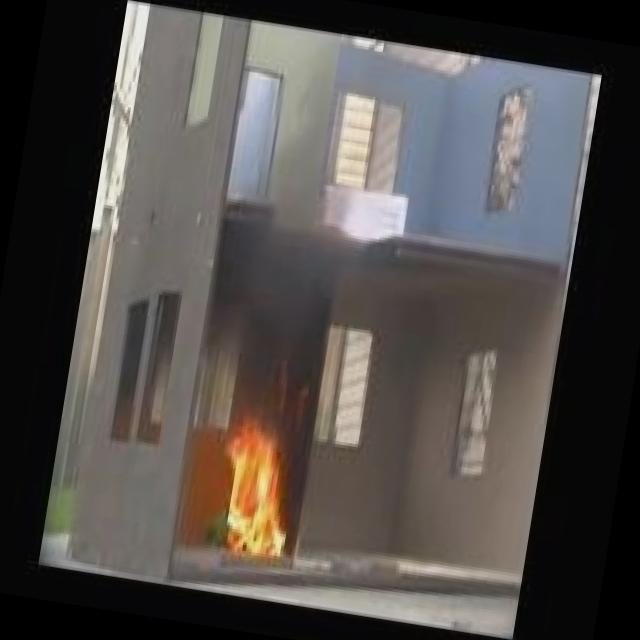fire: (188, 390, 324, 591)
